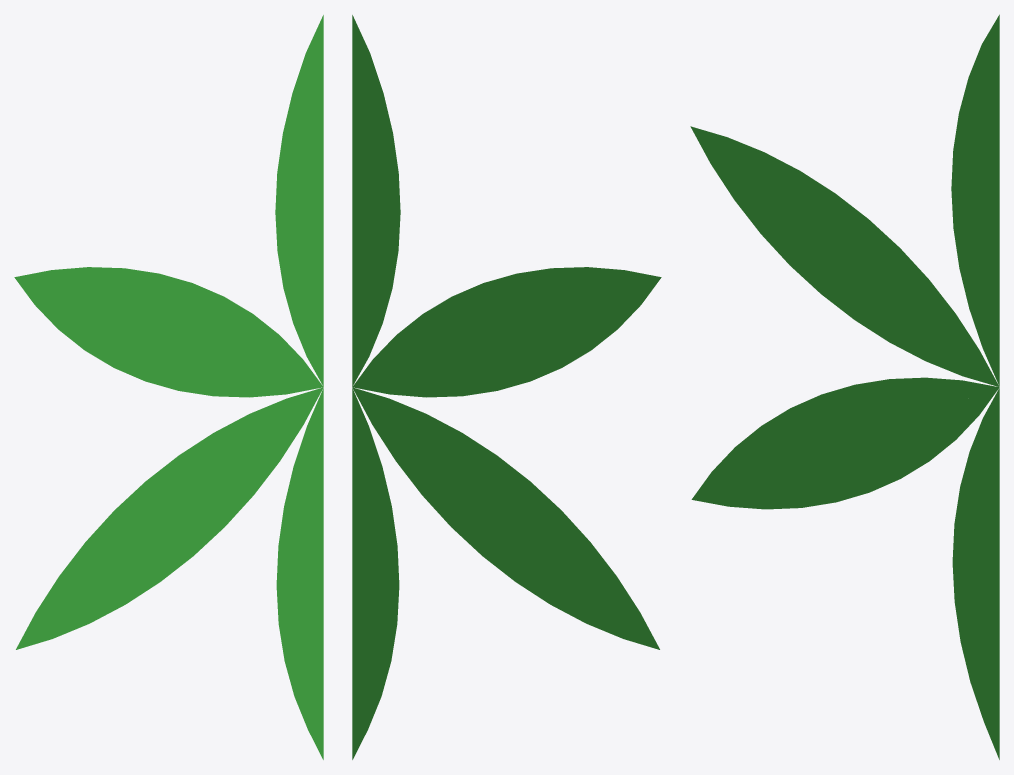
The model's file is seed1d.obj.
3 renders of one model, left to right at view 1: azimuth 30°, elevation 25°; view 2: azimuth 150°, elevation 25°; view 3: azimuth 330°, elevation 25°, orthographic.
Size of the model in its own units: 0.3893 by 0.8977 by 0.
